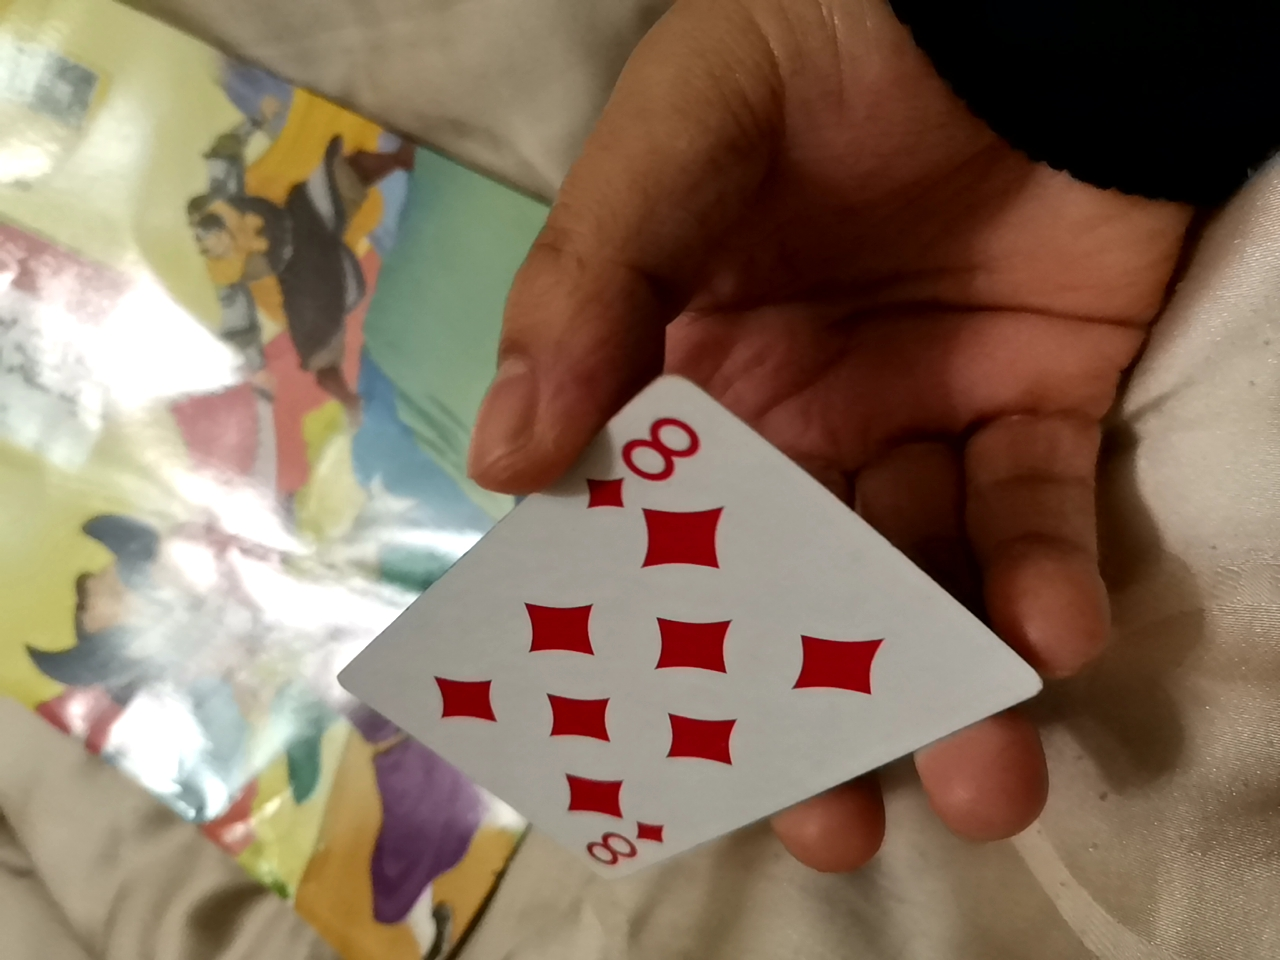fk 8: (312, 397, 1073, 882)
